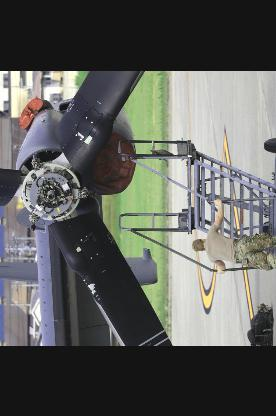Tornado: (0, 71, 175, 347)
